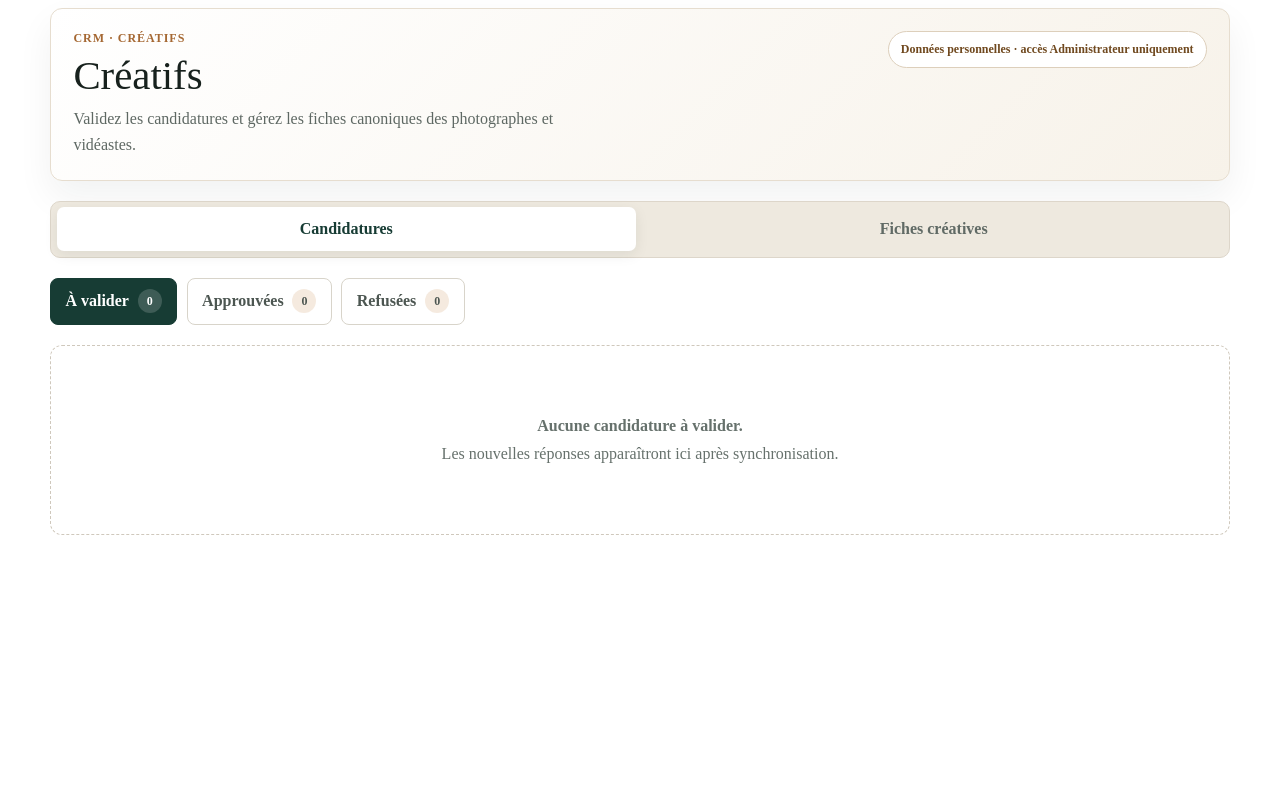
Test: Creative profiles Admin UI › exposes the Fiches creatives tab from the CRM screen
Click the tab "Fiches créatives" at (934, 229), box [644,207,1223,251]
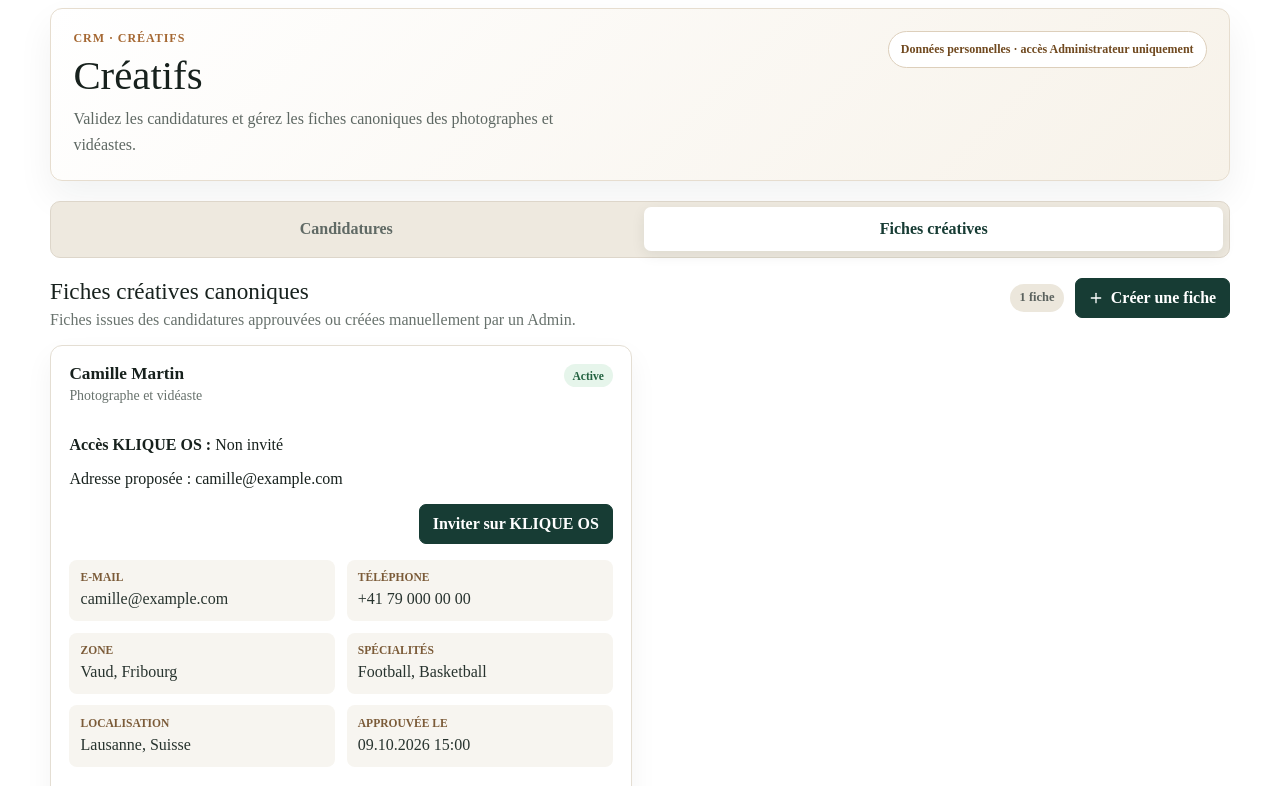
Now the text "Fiches créatives canoniques" is shown, box [50,278,309,304]
Now the text "Camille Martin" is shown, box [69,364,202,384]
